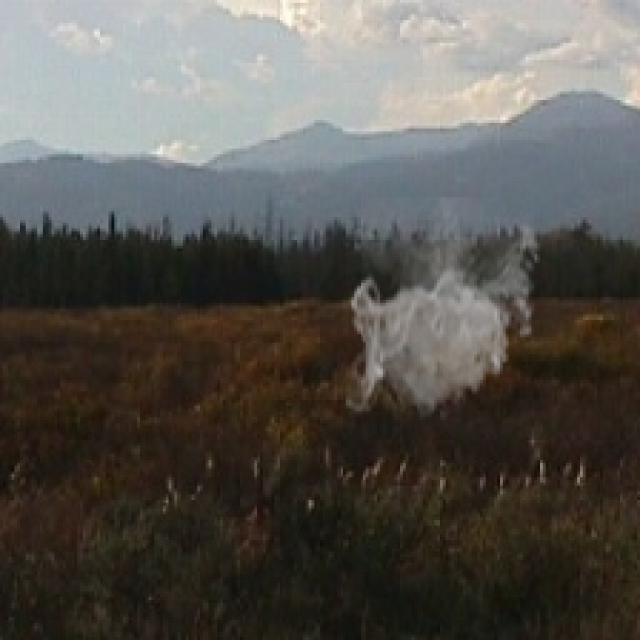smoke: (346, 197, 546, 420)
